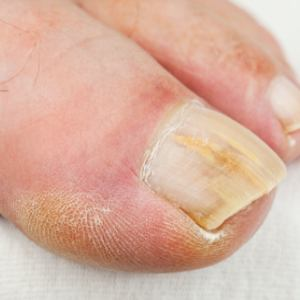Nail Fungal Infection: (179, 132, 278, 227)
